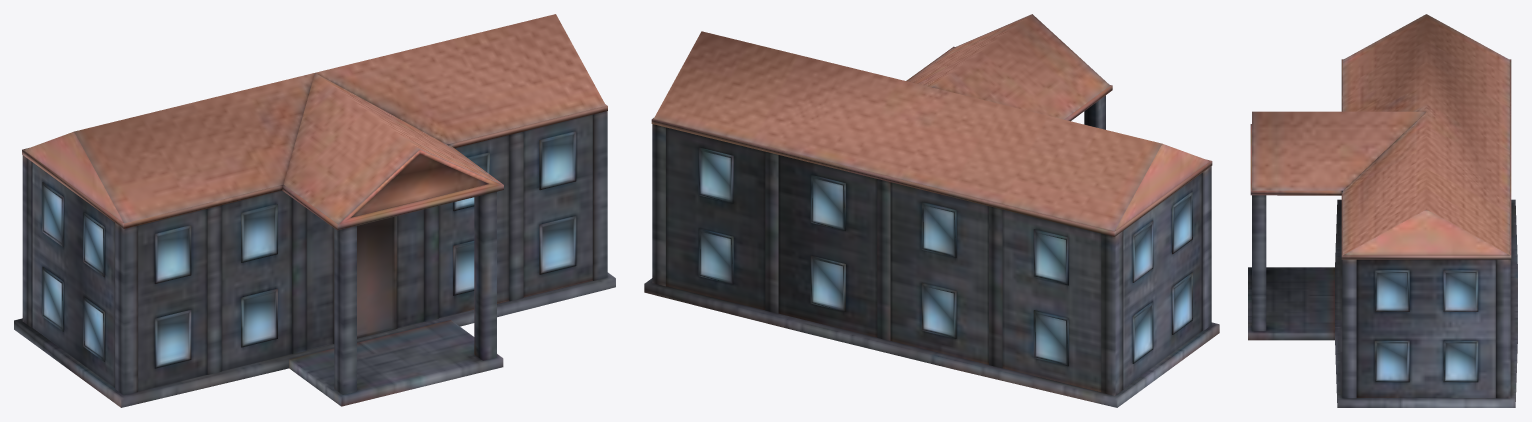
File: Courthouse.glb
3 views of the same model, side by side, from view 1: azimuth 30°, elevation 25°; view 2: azimuth 150°, elevation 25°; view 3: azimuth 270°, elevation 25° (orthographic). The views are drawn at different scales.
Visible parts, largest first — view 1: low; view 2: low; view 3: low.
Part boxes in pixels (left/top/right/bottom): low: left=14, top=14, right=615, bottom=407; low: left=644, top=14, right=1219, bottom=407; low: left=1248, top=14, right=1517, bottom=407.
Bounding box in the file's own units: 13.86 × 6.31 × 7.88.
1 material, 1 textured.
